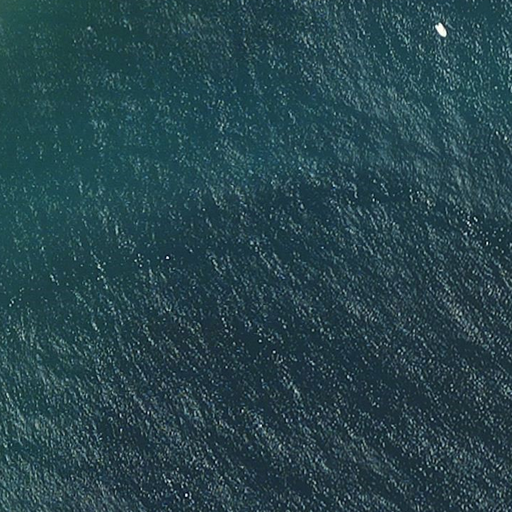ship: (433, 21, 449, 40)
